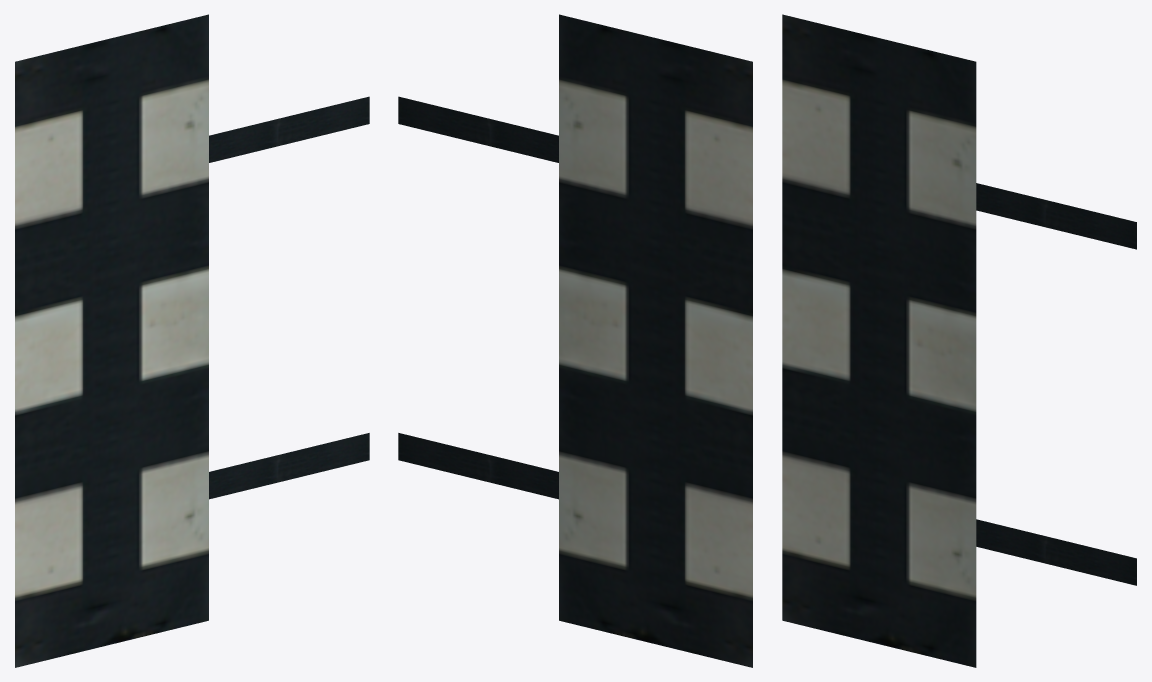
Rendered from sigznak_NV.gltf.
The picture shows the model from 3 angles, left to right: view 1: azimuth 30°, elevation 25°; view 2: azimuth 150°, elevation 25°; view 3: azimuth 330°, elevation 25°; orthographic projection.
Size of the model in its own units: 0.7911 by 1.29 by 0.00238.
1 material, 1 textured.
